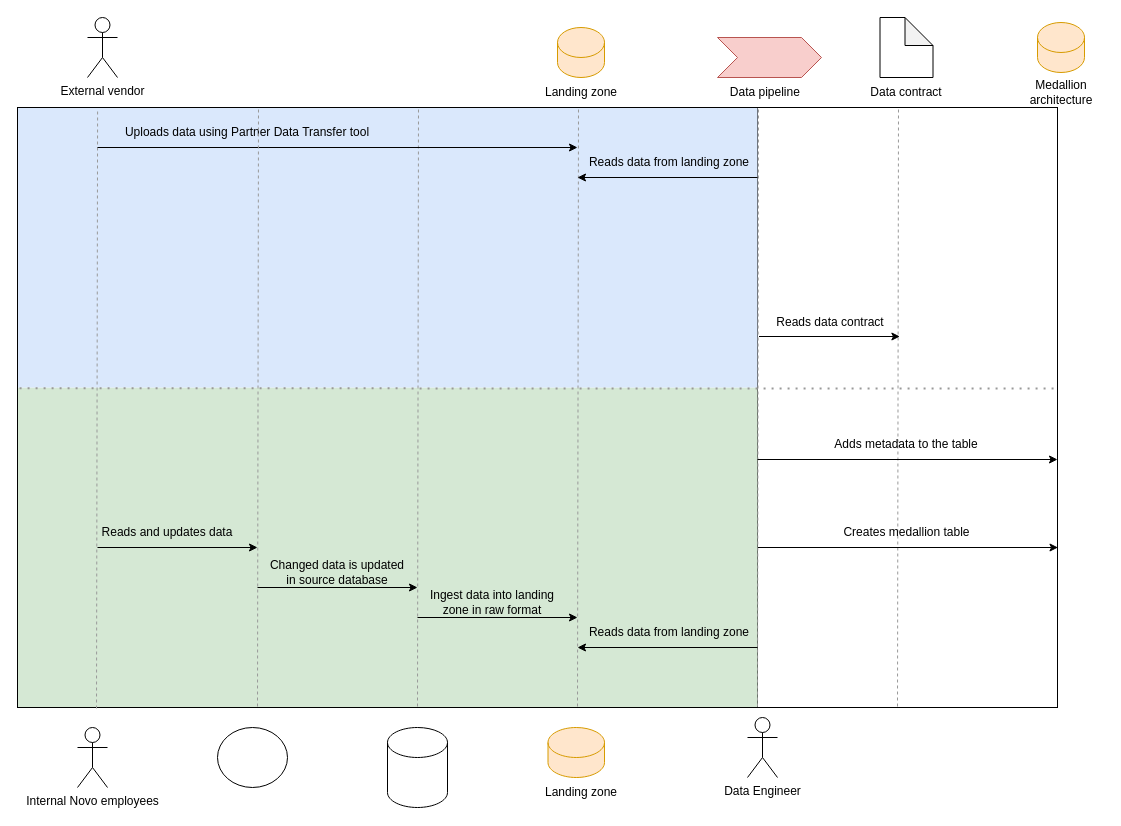
This 1121x826 diagram has some shape labels left out. Here are the shapes that lost their labels. From the top down, the box of each, then its label:
(216, 726, 288, 788): Web application
(386, 726, 448, 808): Source system
